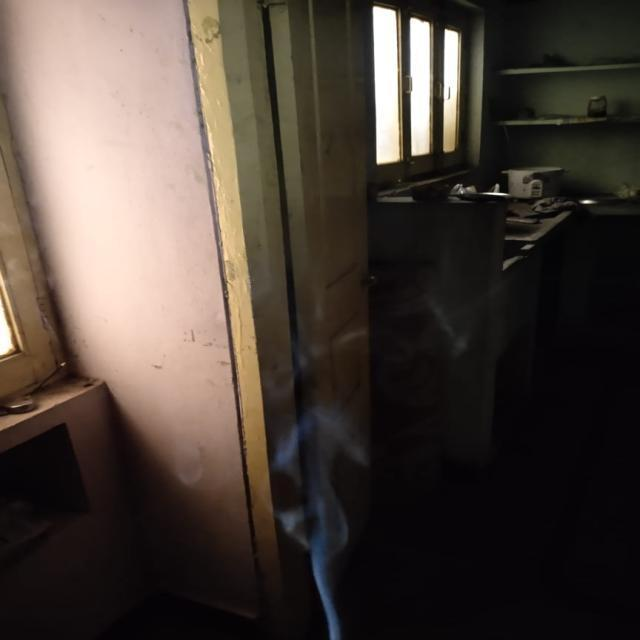fire: (261, 400, 375, 630)
